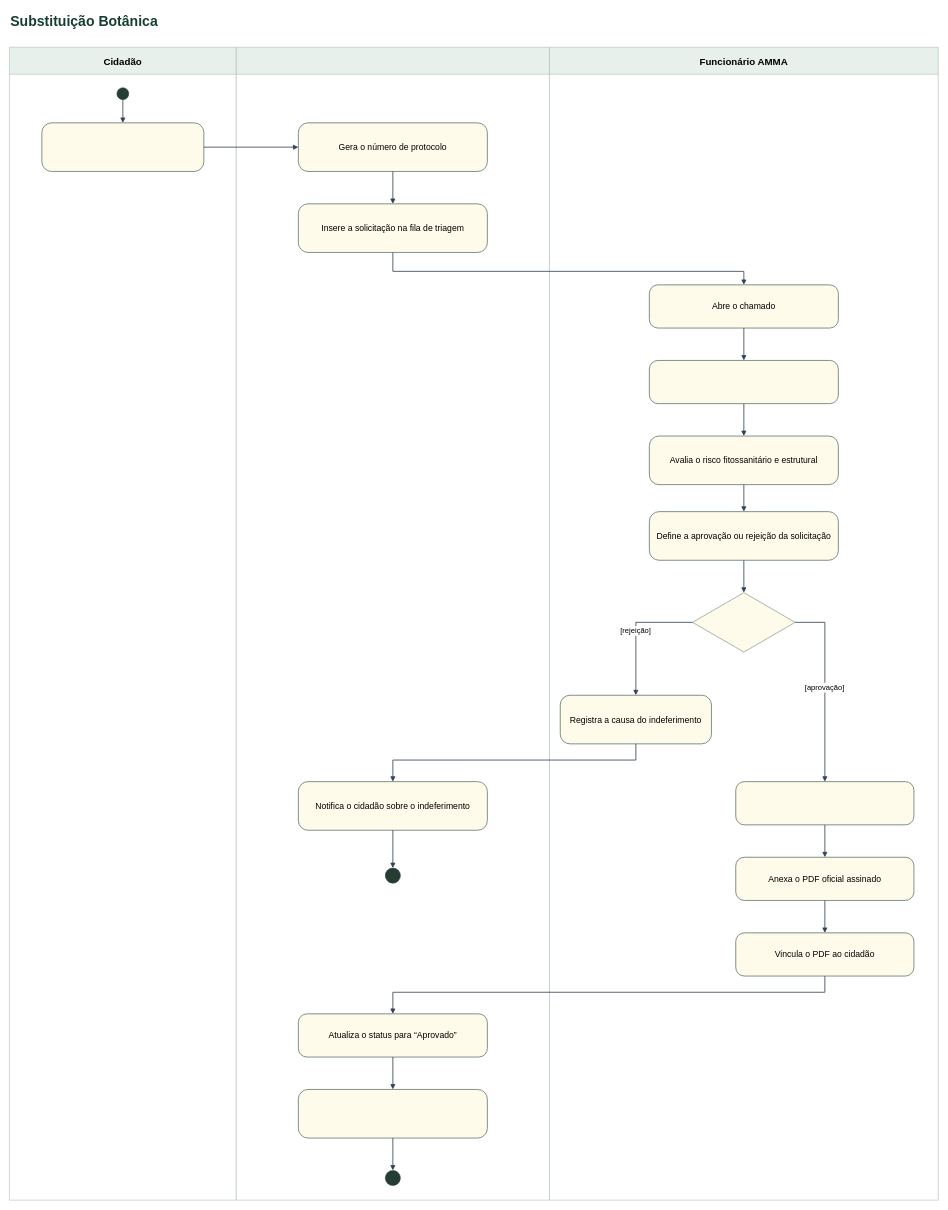
Image size: 948x1210. Some labels were removed from this diagram. The box of each missing label's shape, as (x1, y1, x2, y2) in pixels:
Agenda a vistoria: (649, 360, 839, 404)
Preenche o formulário de substituição botânica: (41, 122, 204, 172)
Preenche o parecer técnico: (735, 781, 914, 825)
Programa o cronograma para substituição: (298, 1089, 488, 1138)
Sistema: (236, 47, 549, 1200)
Solicitação aprovada?: (692, 592, 795, 652)
